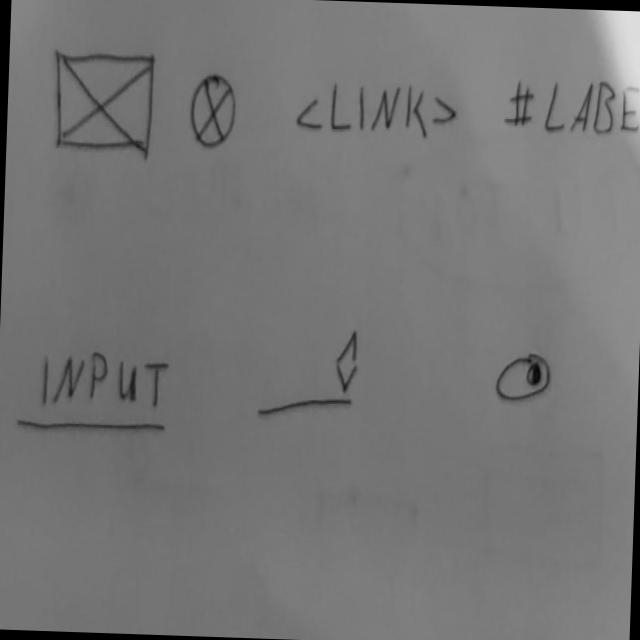image: (52, 47, 159, 161), (189, 70, 240, 152)
input: (15, 347, 174, 440)
label: (503, 71, 640, 143)
link: (294, 75, 461, 145)
number-input: (253, 322, 364, 425)
toggle: (494, 349, 554, 405)
